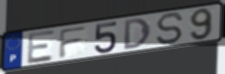5: (93, 20, 119, 55)
9: (189, 7, 216, 42)
D: (123, 17, 152, 52)
E: (26, 28, 57, 65)
F: (58, 24, 90, 60)
S: (155, 11, 185, 46)
